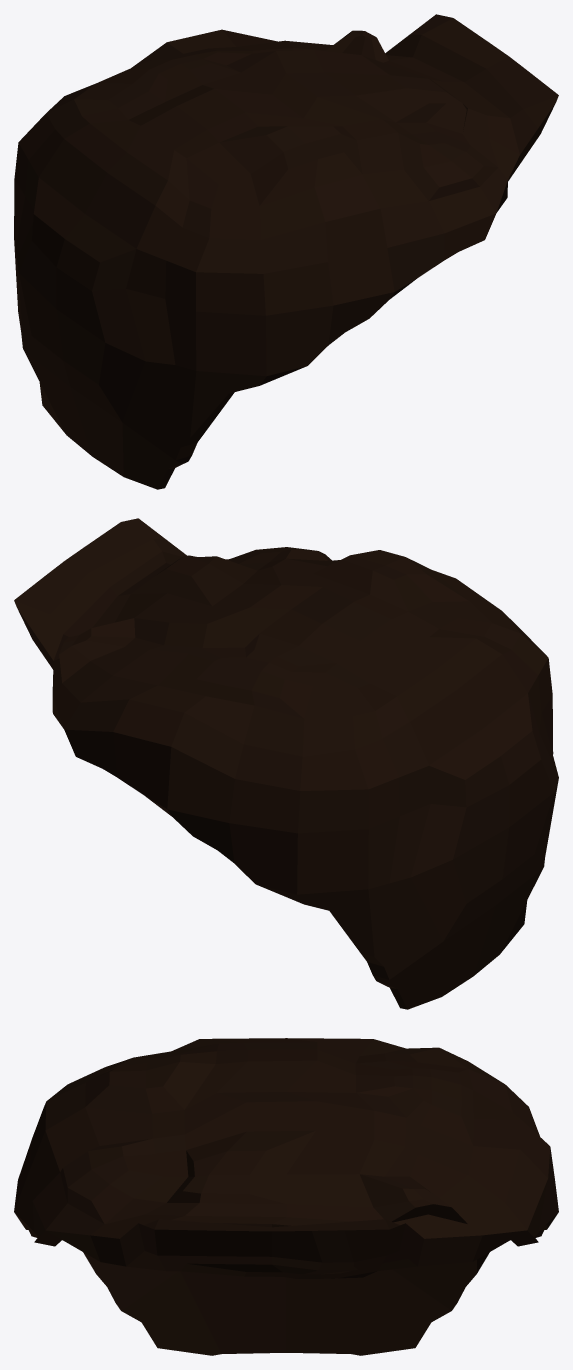
The model's file is cabelo1.fbx.
3 views of the same model, one above another, from view 1: azimuth 30°, elevation 25°; view 2: azimuth 150°, elevation 25°; view 3: azimuth 270°, elevation 25° (orthographic). The views are drawn at different scales.
Visible parts, largest first — view 1: Cube.001; view 2: Cube.001; view 3: Cube.001.
Part boxes in pixels (x1,y1,x2,y2): Cube.001: [14, 14, 558, 489]; Cube.001: [14, 518, 558, 1009]; Cube.001: [14, 1038, 558, 1355].
Size of the model in its own units: 259 by 183 by 246.
